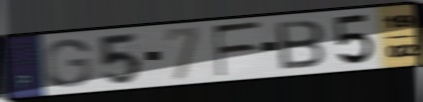5: (97, 30, 145, 86), (333, 12, 375, 66)
7: (163, 26, 205, 81)
B: (273, 18, 327, 72)
F: (211, 19, 264, 79)
G: (43, 38, 93, 89)
